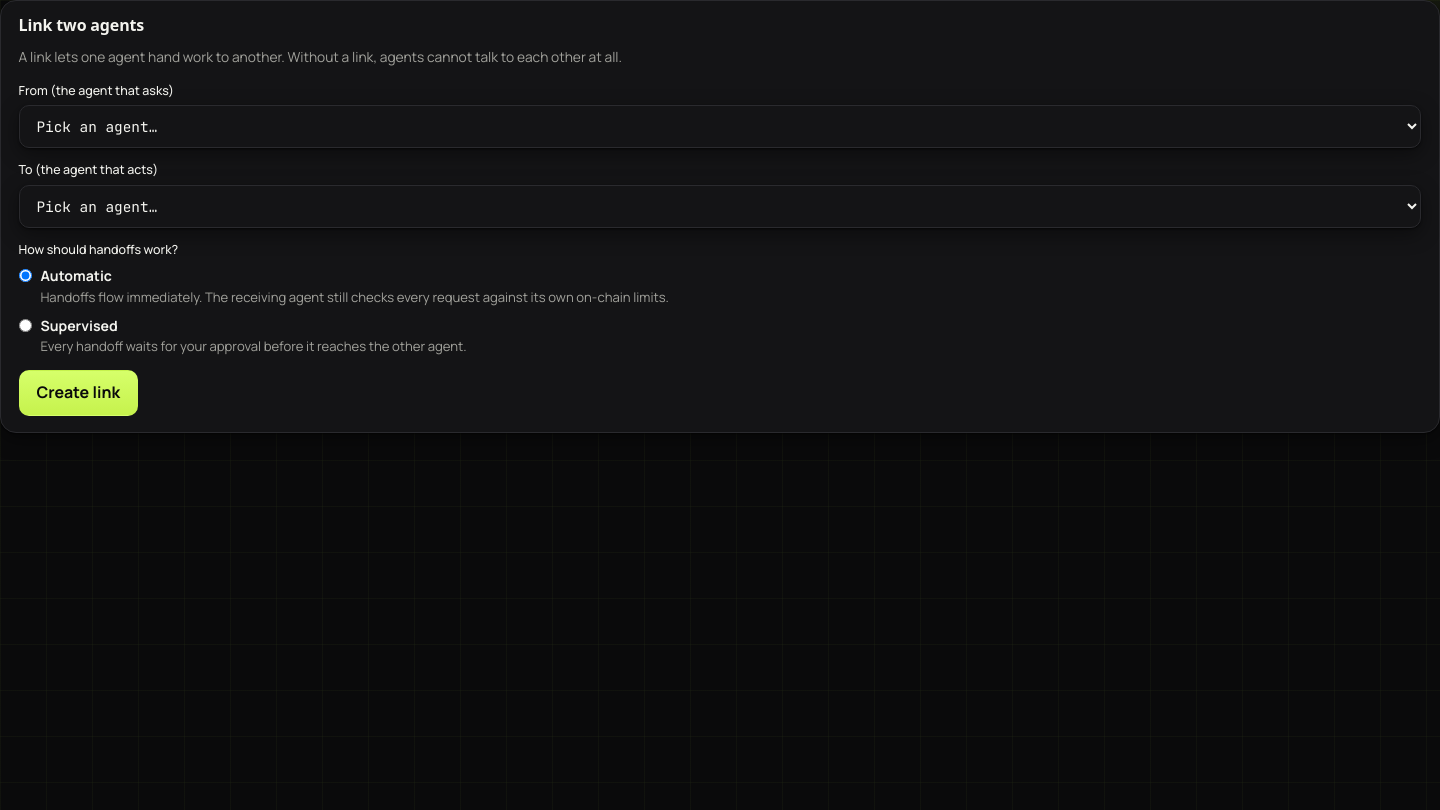
LinkCreateForm › rejects linking an agent to itself
The width and height of the screenshot is (1440, 810).
Select "Watcher" in the dropdown labelled "From (the agent that asks)": [720, 127] box [19, 106, 1421, 148]
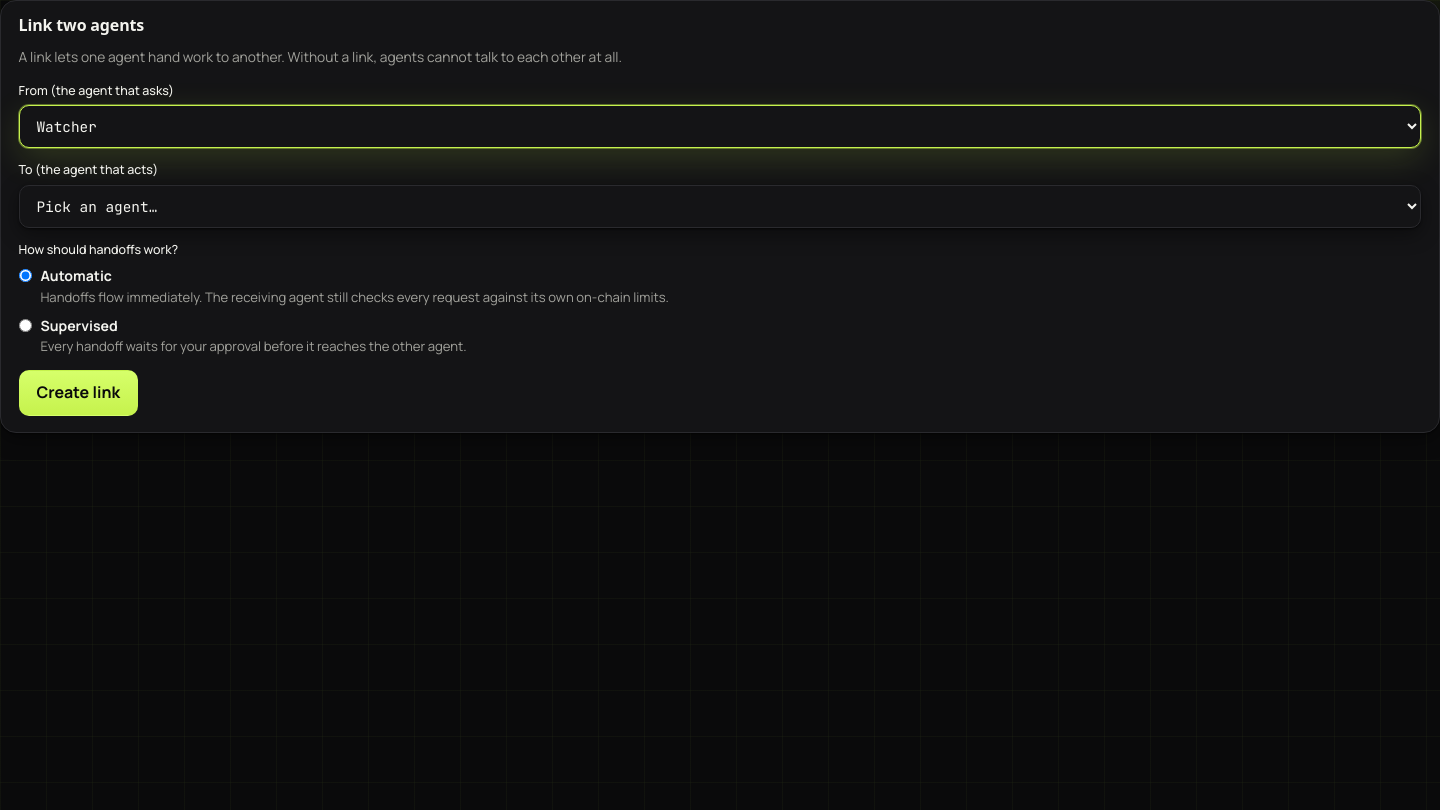
Select "Watcher" in the dropdown labelled "To (the agent that acts)": [720, 206] box [19, 185, 1421, 228]
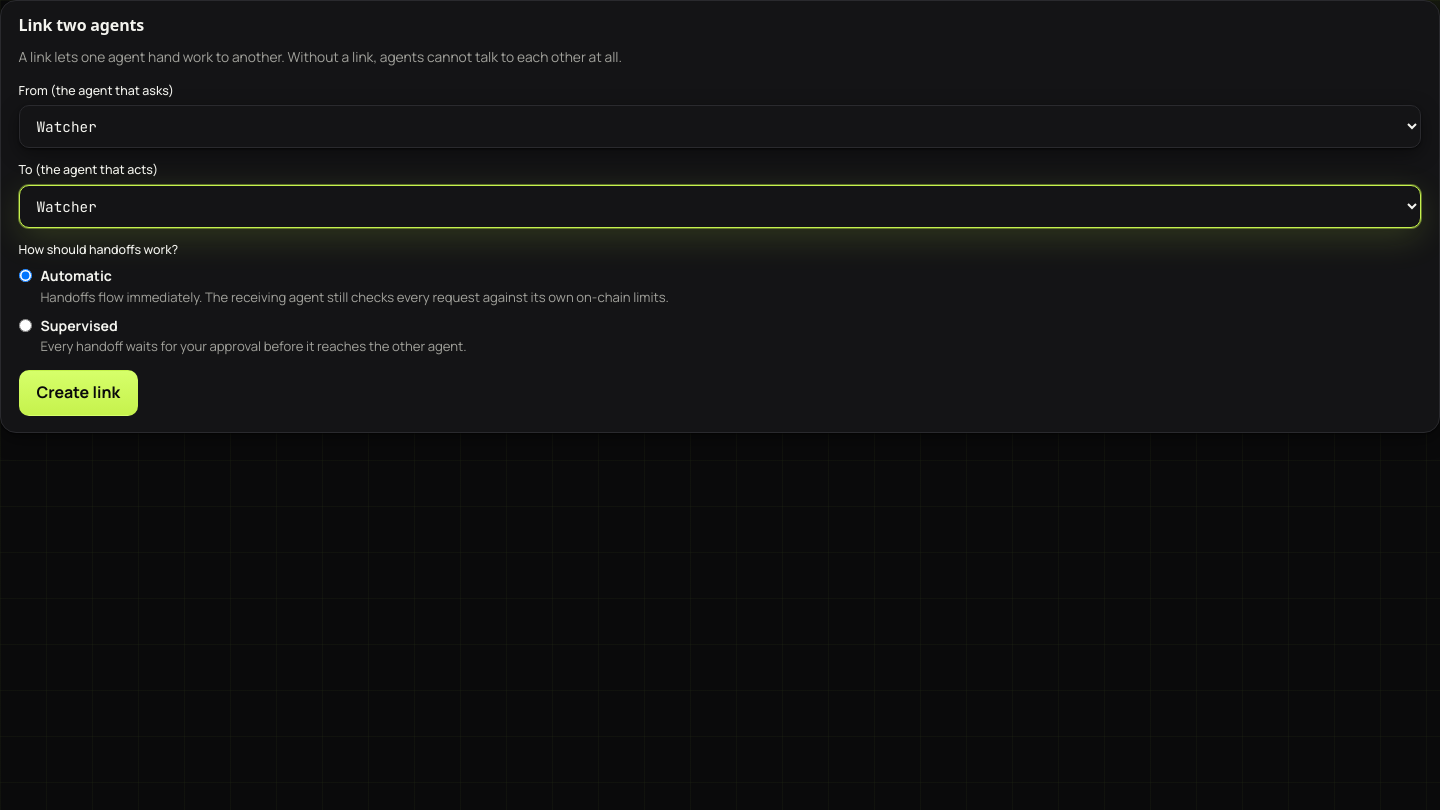
Click the button with test id "create-link-btn": [78, 393] box [19, 370, 138, 416]
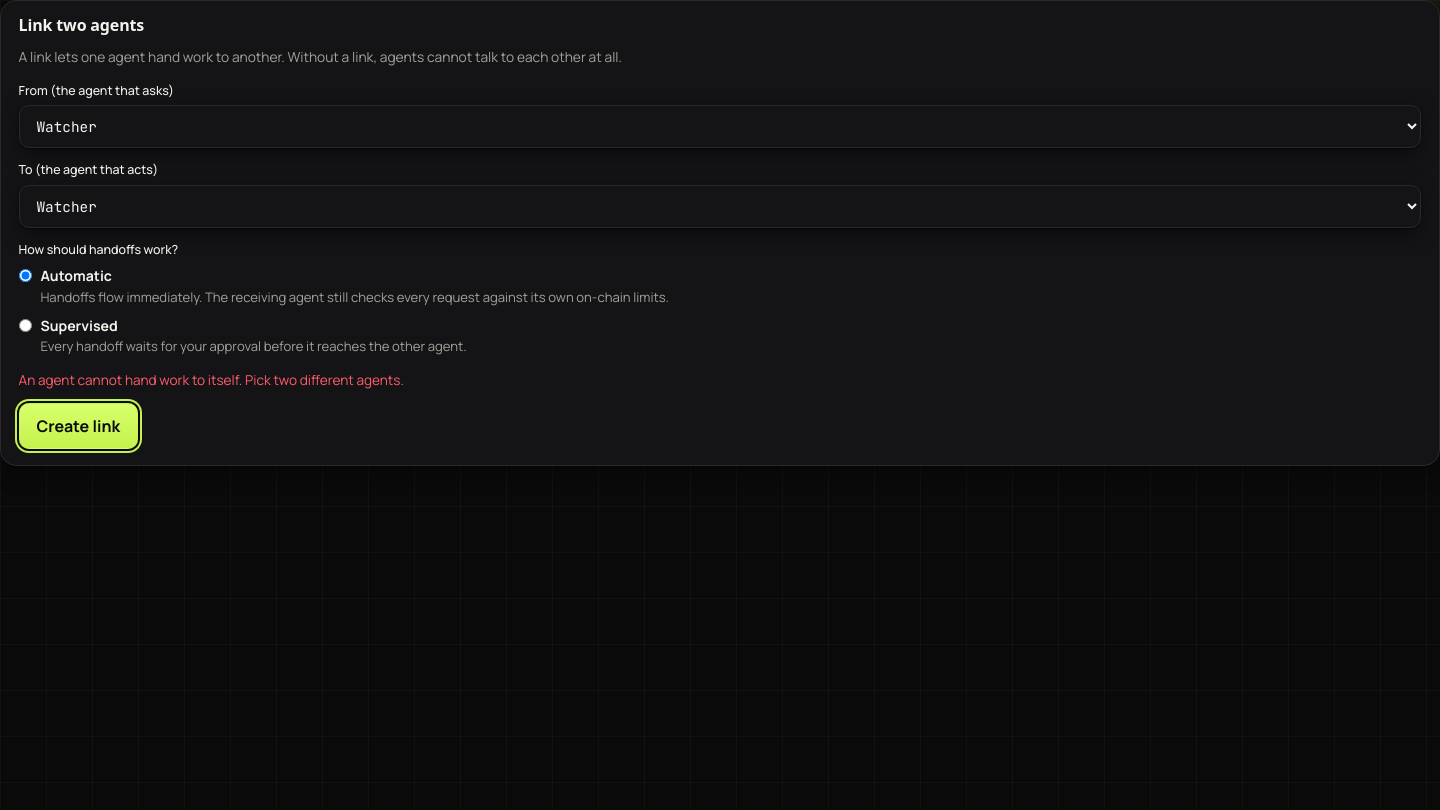
Result: the message shows "cannot hand work to itself" at [19, 371, 404, 389]
